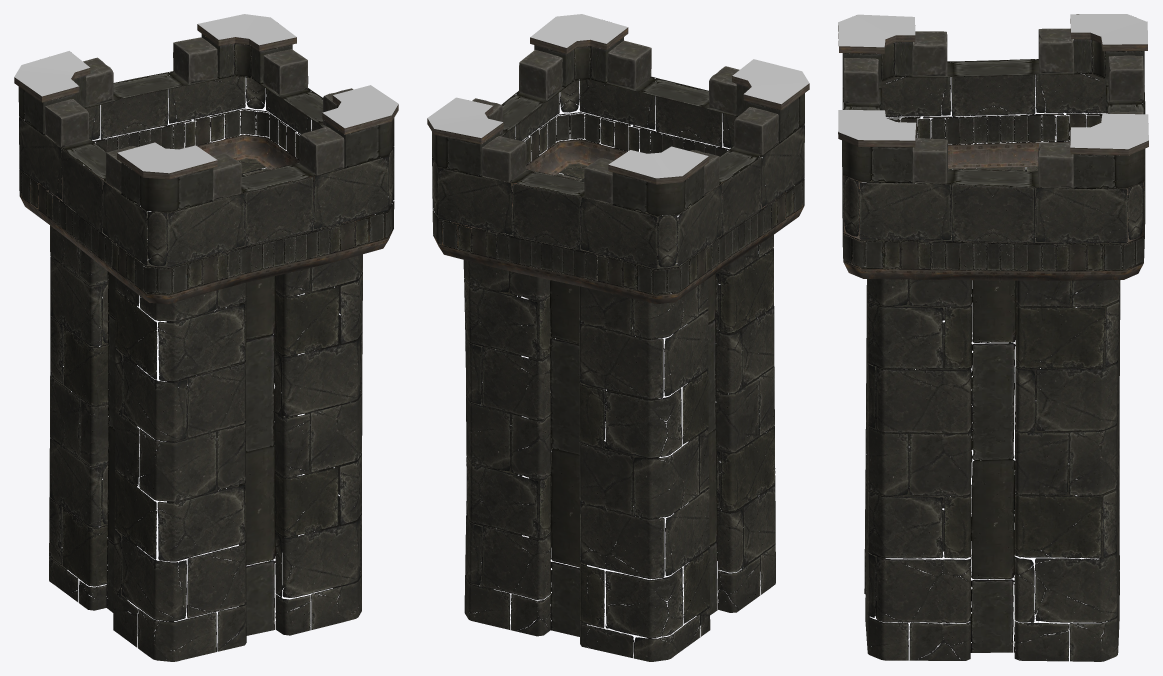
The picture shows the model from 3 angles, left to right: view 1: azimuth 30°, elevation 25°; view 2: azimuth 150°, elevation 25°; view 3: azimuth 270°, elevation 25°; orthographic projection. The views are drawn at different scales.
Parts seen in each view (by area): view 1: SM_DR_Gateway_Top_Tower_02_LOD0; view 2: SM_DR_Gateway_Top_Tower_02_LOD0; view 3: SM_DR_Gateway_Top_Tower_02_LOD0.
Boxes of the visible parts, x1,y1,x2,y2 form: SM_DR_Gateway_Top_Tower_02_LOD0: (14,14,398,661); SM_DR_Gateway_Top_Tower_02_LOD0: (427,14,809,661); SM_DR_Gateway_Top_Tower_02_LOD0: (838,14,1148,661).
Size of the model in its own units: 5.97 by 11.32 by 5.97.
